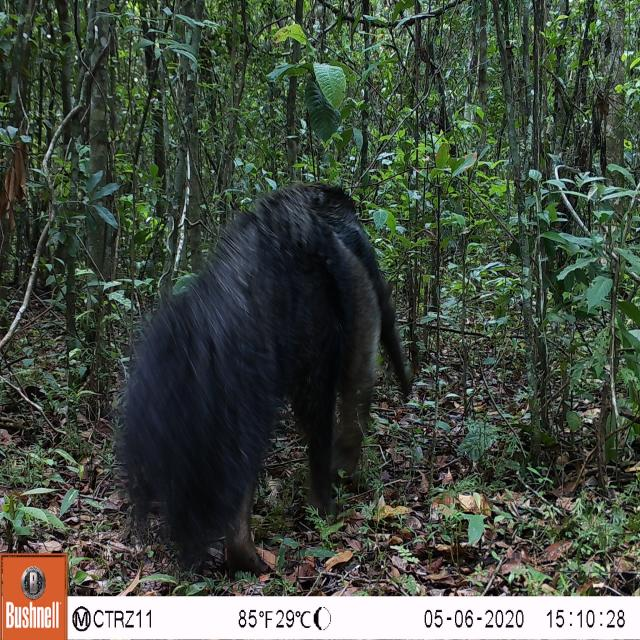Giant Anteater: (109, 166, 418, 582)
